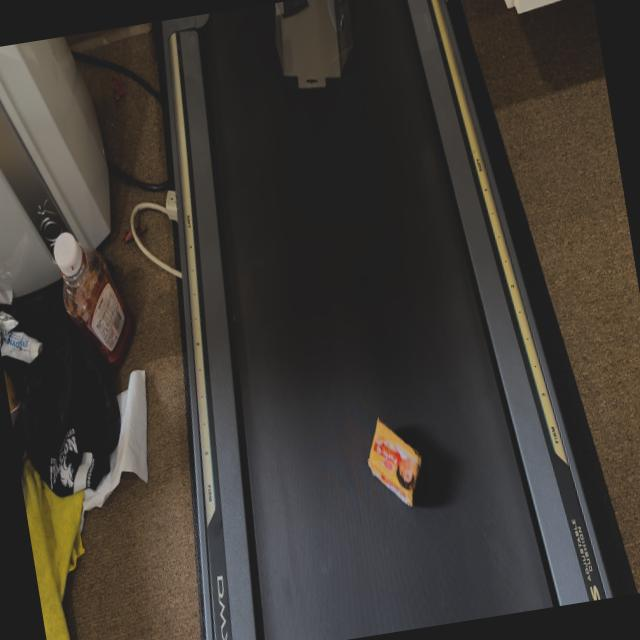Trash: (361, 414, 429, 503)
